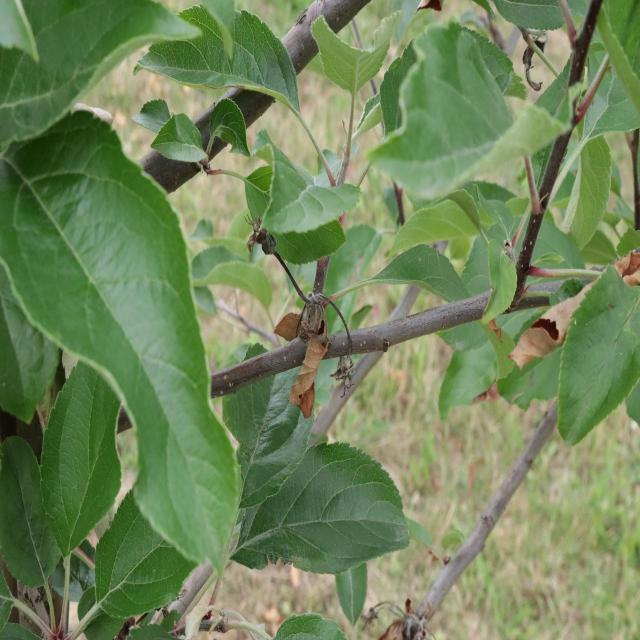-FireBlight-: (285, 294, 327, 416)
